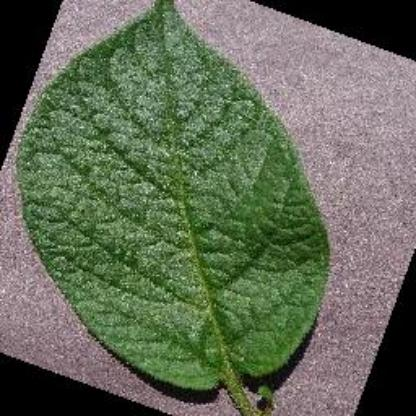Healthy-plant: (18, 0, 344, 416)
